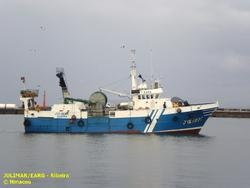otherboat: (13, 44, 222, 139)
